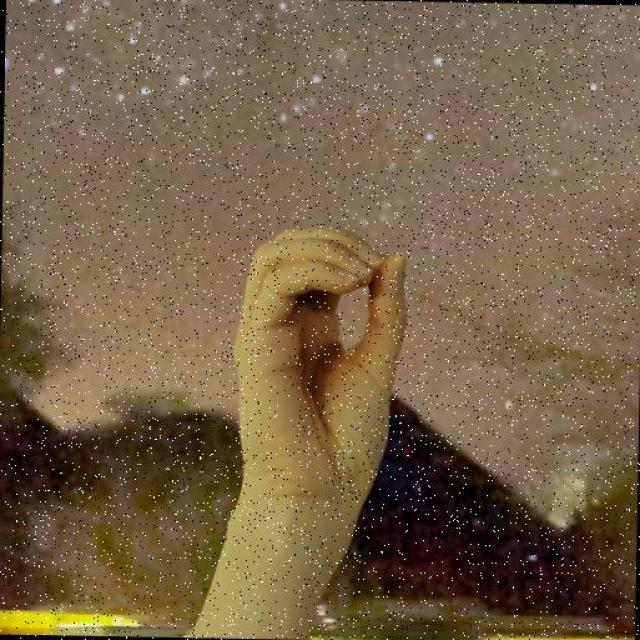O: (226, 222, 413, 512)
